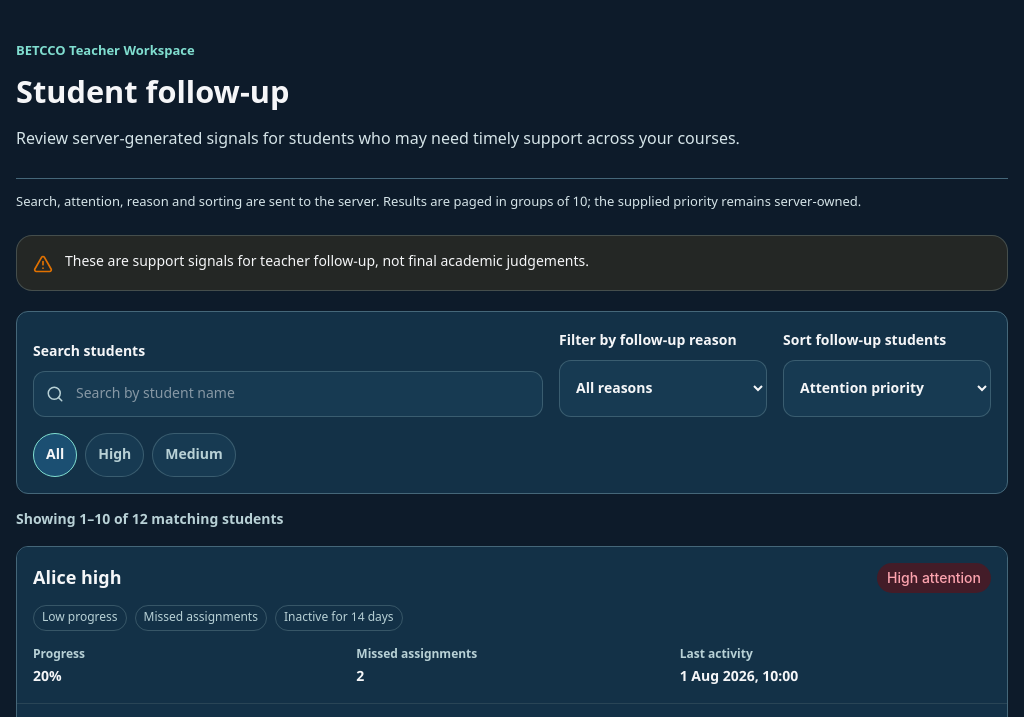
Test: TeacherStudentFollowUp › searches the complete server result and exposes missing values honestly
This screenshot has width=1024, height=717.
expect the heading "Alice high" is shown: met, box 33,563 -> 122,593
Type "Basma" into the search field labelled "Search students".
click(301, 394); type("Basma")  # box 72,372 -> 530,416
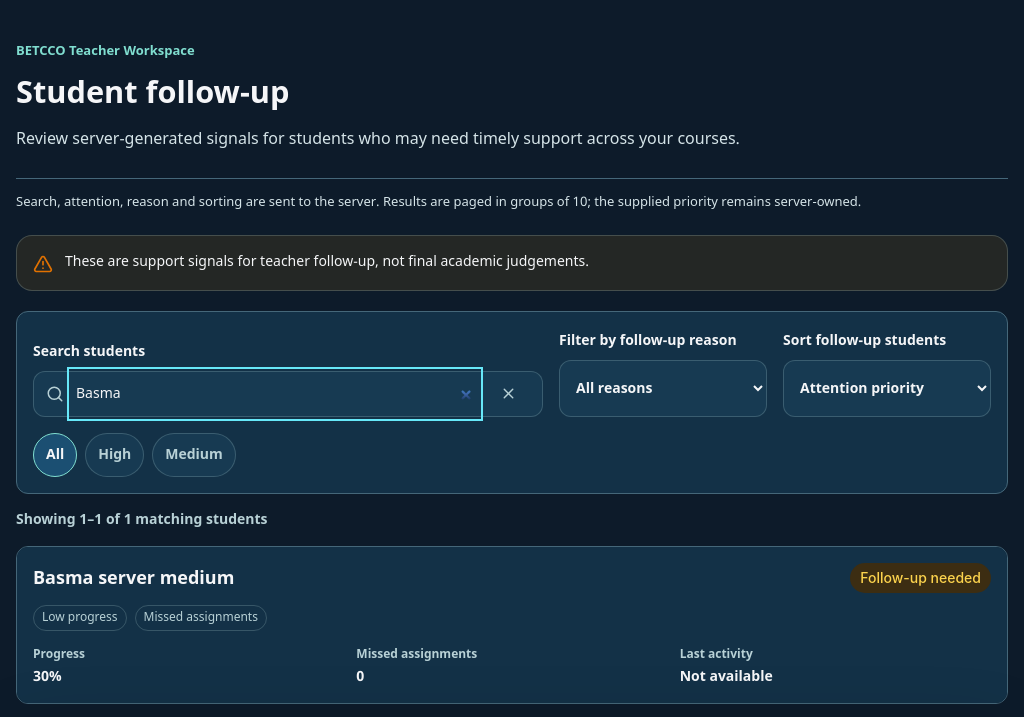
expect the heading "Basma server medium" is shown: met, box 33,563 -> 234,593
expect the text "Not available" is shown once: met, box 680,662 -> 773,691
expect the heading "Alice high" is gone: met
